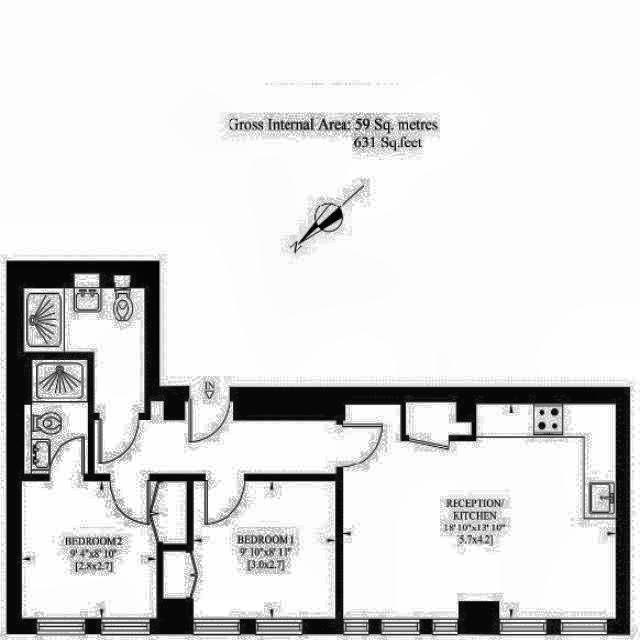room: (344, 406, 615, 619), (163, 481, 335, 619), (22, 481, 186, 619), (94, 400, 336, 473), (22, 272, 144, 412), (24, 361, 87, 473)
